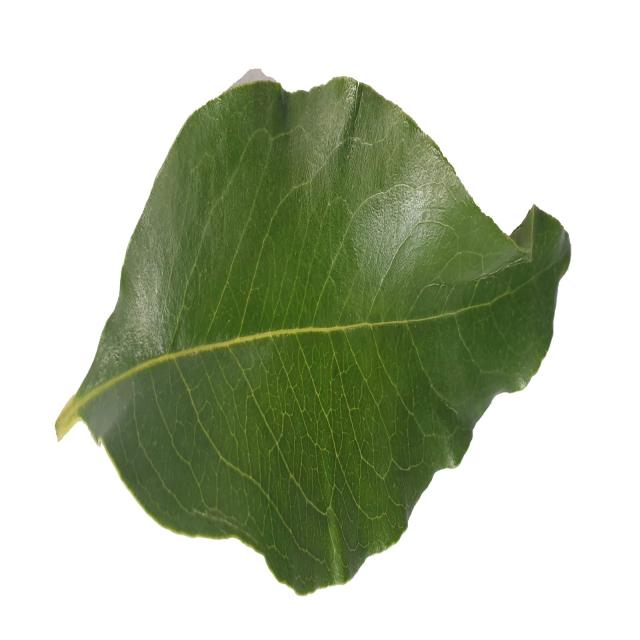Medicinal-Sandalwood: (55, 72, 572, 599)
